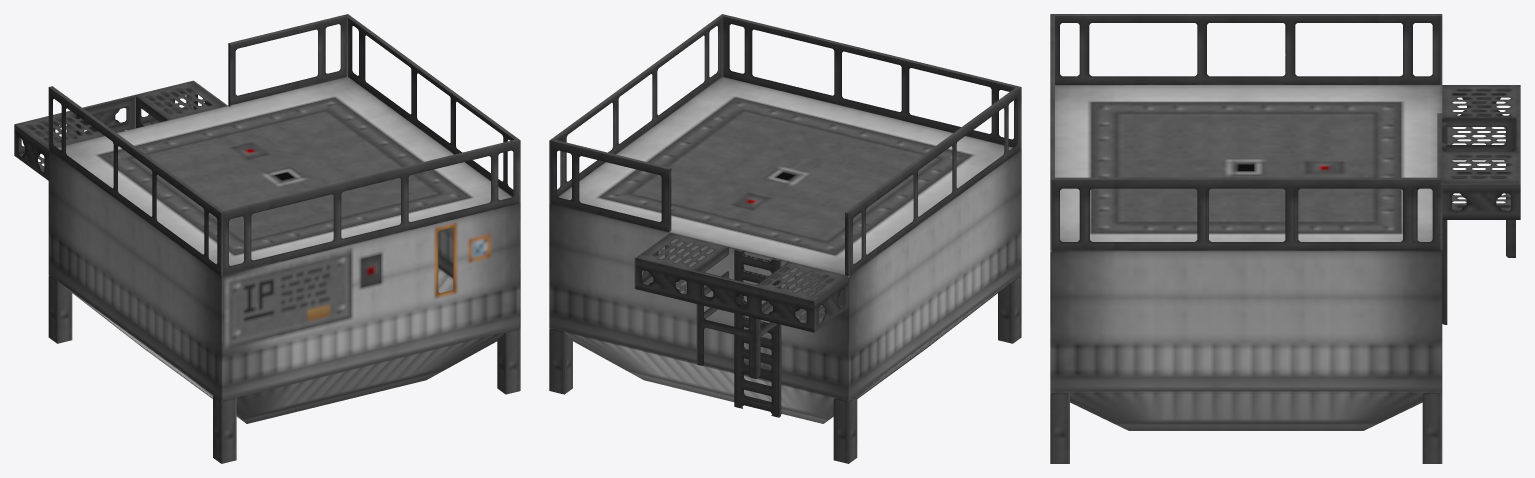
The model's file is oil_tank_mirrored.obj.
3 views of the same model, side by side, from view 1: azimuth 30°, elevation 25°; view 2: azimuth 150°, elevation 25°; view 3: azimuth 270°, elevation 25° (orthographic). The views are drawn at different scales.
Parts seen in each view (by area): view 1: oiltank_mirrored; view 2: oiltank_mirrored; view 3: oiltank_mirrored.
Part boxes in pixels (x1,y1,x2,y2): oiltank_mirrored: (14, 14, 520, 463); oiltank_mirrored: (549, 14, 1021, 463); oiltank_mirrored: (1050, 14, 1520, 463).
Size of the model in its own units: 5 by 4 by 6.
